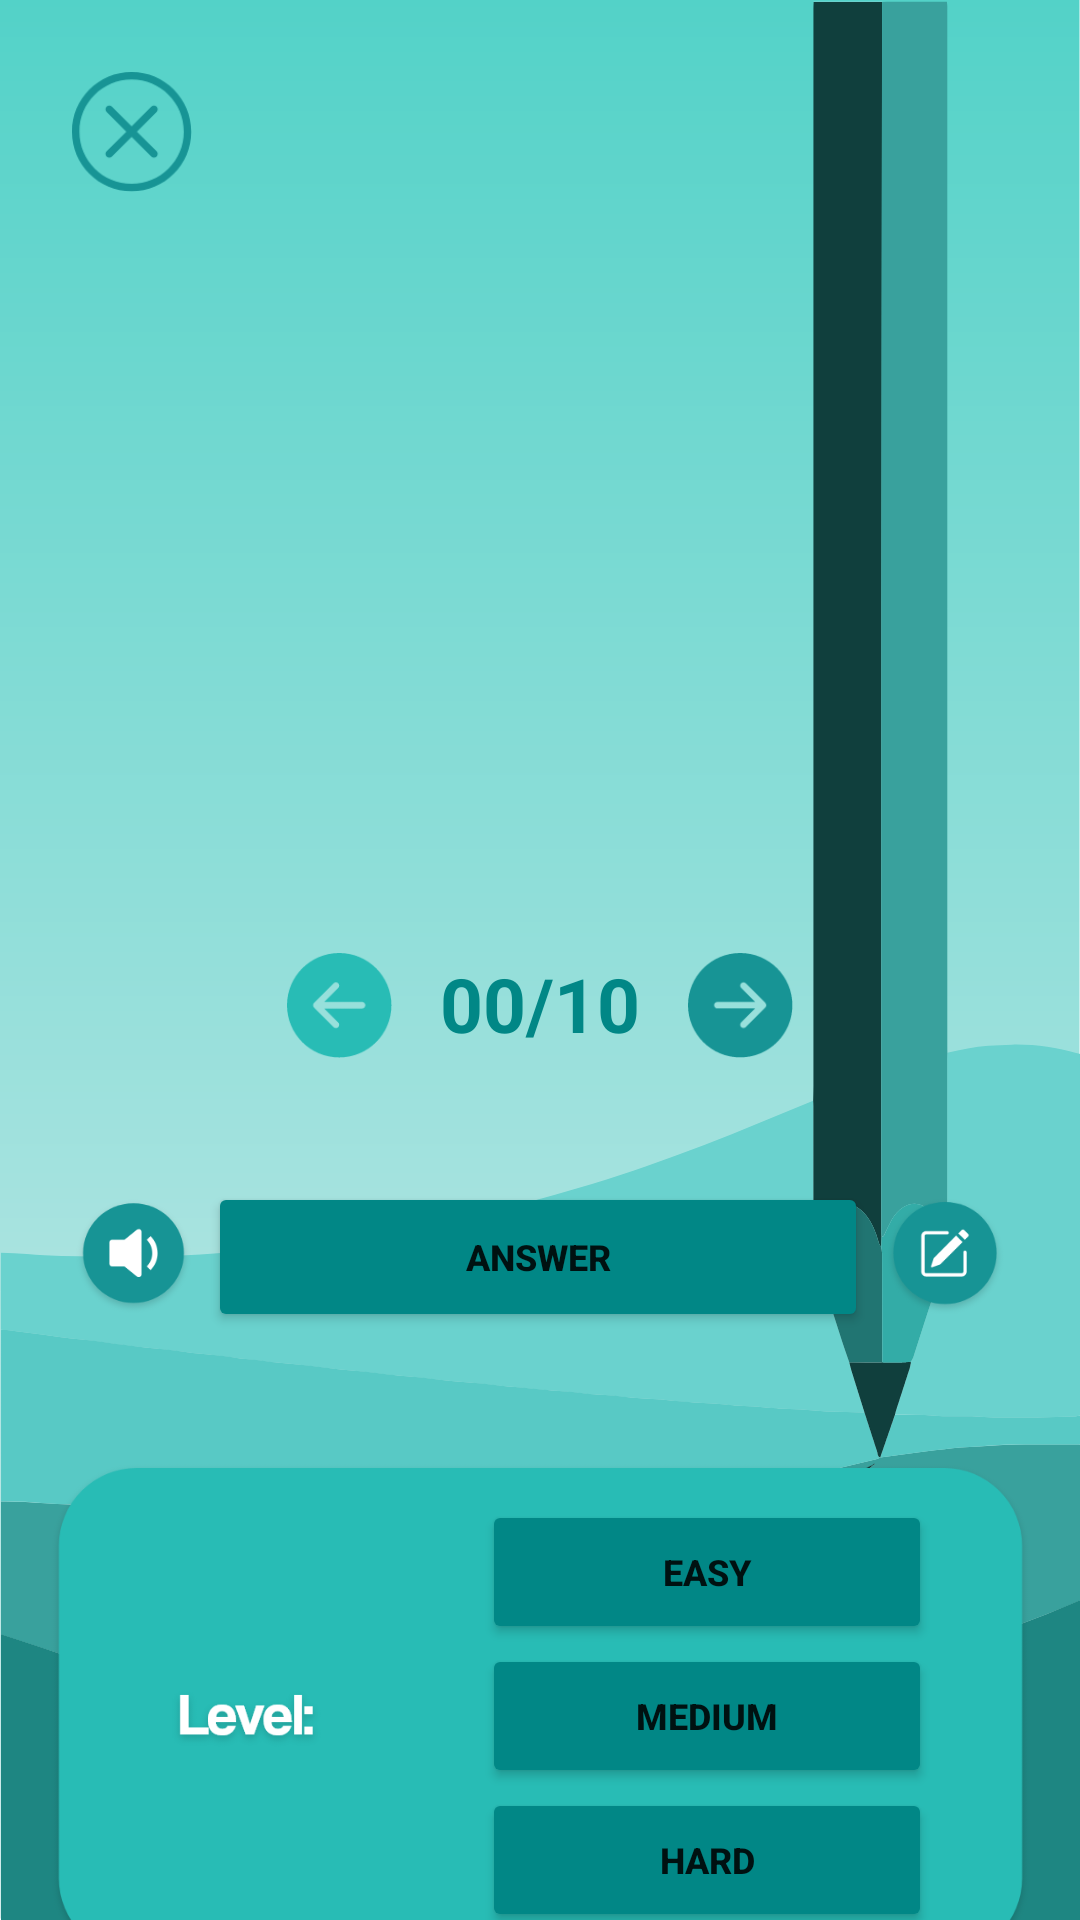

Screen size 1080*1920. Icon name, then its center in pixels as point (x, y):
audio on: point (133, 1257)
close: point (131, 131)
edit: point (945, 1257)
left: point (339, 1005)
right: point (740, 1005)
